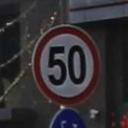speed_limit_50: (34, 26, 100, 105)
